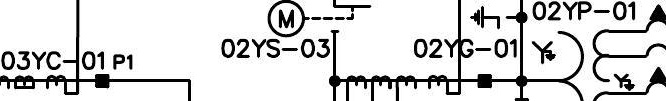115_gs: (469, 5, 510, 30)
